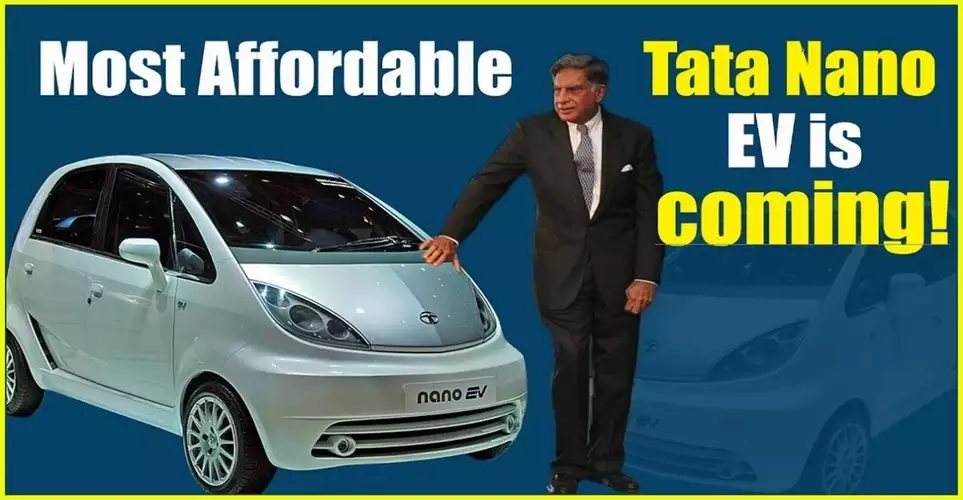Nano: (7, 151, 526, 496)
